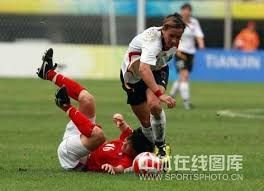fall: (36, 40, 166, 174)
